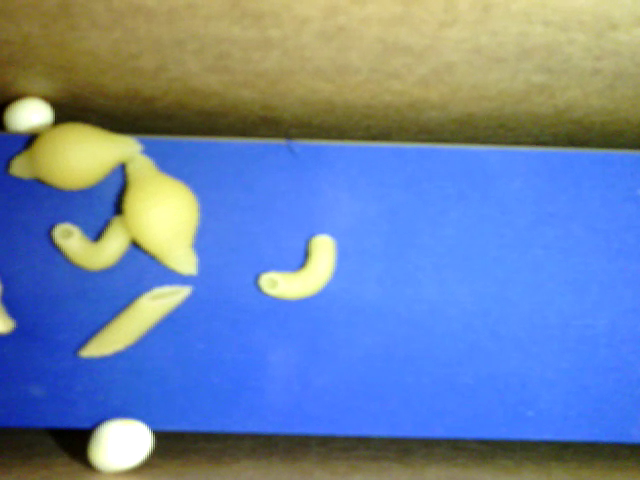elbow: (258, 232, 338, 302), (52, 215, 133, 272)
penne: (76, 284, 192, 358)
shell: (119, 153, 199, 275), (9, 121, 144, 192)
